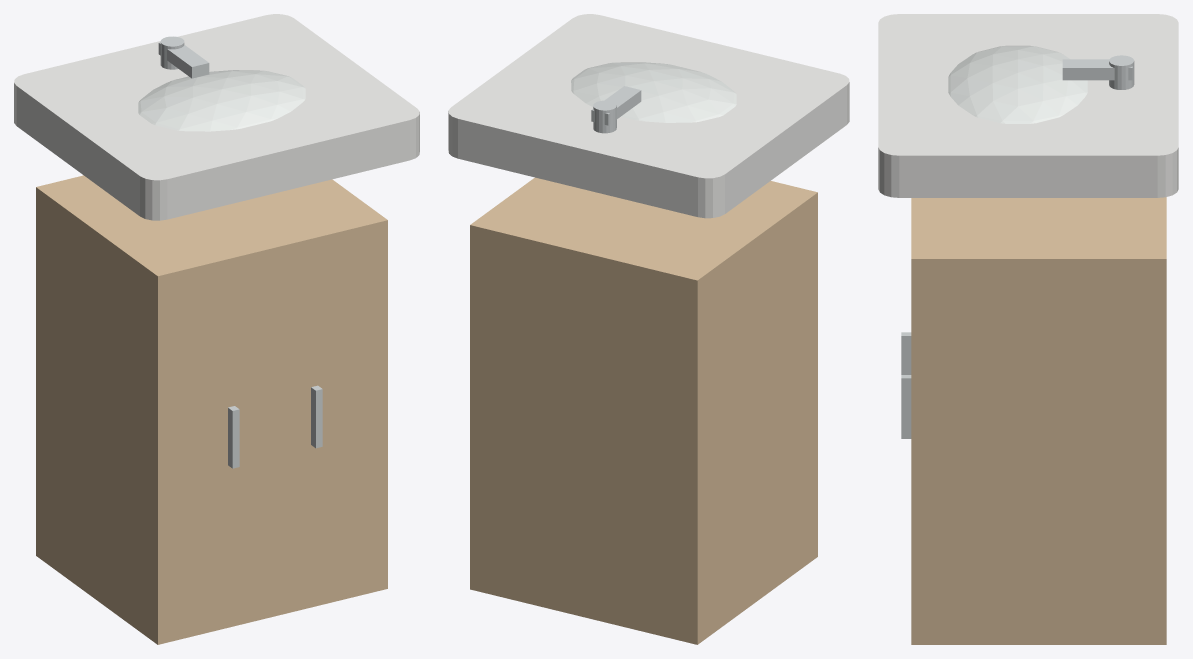
Rendered from s-bed7-o03-ff1c66ac62.glb.
3 views of the same model, side by side, from view 1: azimuth 30°, elevation 25°; view 2: azimuth 150°, elevation 25°; view 3: azimuth 270°, elevation 25° (orthographic). The views are drawn at different scales.
Parts seen in each view (by area): view 1: cabinet, ceramic-rim, bowl, spout, handle-5, handle-6; view 2: cabinet, ceramic-rim, bowl, spout, tap; view 3: cabinet, ceramic-rim, bowl, spout, tap, handle-6, handle-5.
Part boxes in pixels (x1,y1,x2,y2): cabinet: (36, 175, 387, 644); ceramic-rim: (14, 14, 419, 220); bowl: (138, 70, 305, 131); spout: (158, 42, 209, 78); handle-5: (228, 406, 239, 468); handle-6: (311, 385, 322, 448); cabinet: (470, 177, 817, 644); ceramic-rim: (448, 14, 849, 218); bowl: (571, 62, 736, 122); spout: (591, 86, 641, 125); tap: (593, 100, 616, 133); cabinet: (911, 197, 1166, 644); ceramic-rim: (878, 14, 1178, 197); bowl: (948, 45, 1087, 123); spout: (1062, 59, 1132, 80); tap: (1109, 55, 1134, 89); handle-6: (901, 375, 911, 438); handle-5: (901, 332, 911, 374).
Size of the model in its own units: 0.48 by 0.83 by 0.43.
